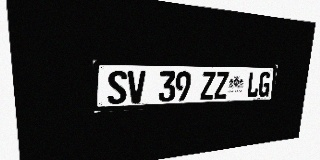3: (158, 71, 176, 102)
9: (175, 71, 191, 101)
G: (258, 72, 271, 97)
L: (246, 72, 260, 98)
S: (107, 70, 127, 105)
V: (127, 71, 146, 104)
Z: (200, 71, 216, 100), (214, 71, 229, 99)
